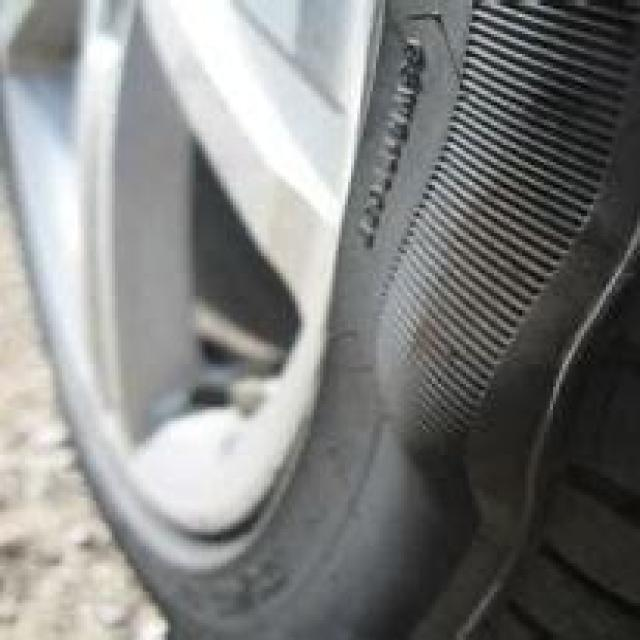Bulge: (357, 227, 640, 524)
